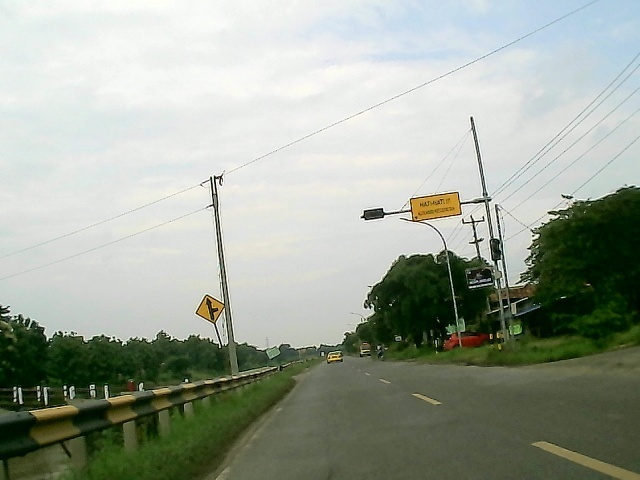Simpang kanan dengan prioritas: (190, 292, 229, 325)
